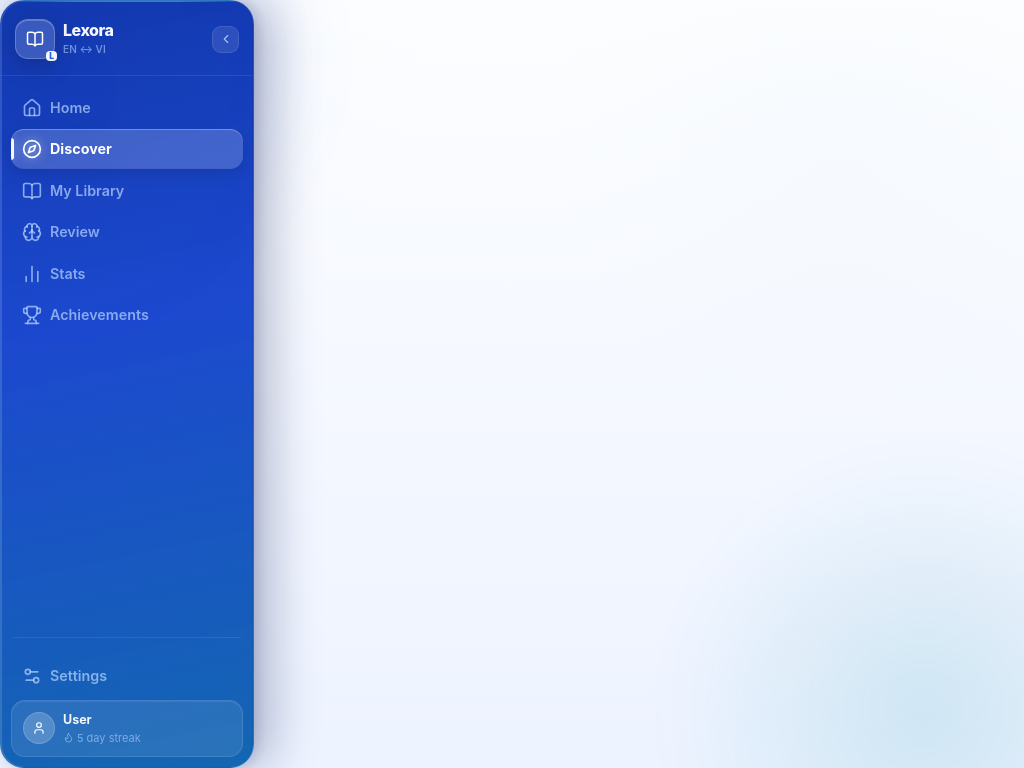
Test: Sidebar — collapse behavior › hides nav labels when collapsed
The width and height of the screenshot is (1024, 768).
Click the button named "Collapse sidebar" at (226, 39), box [212,26,239,52]
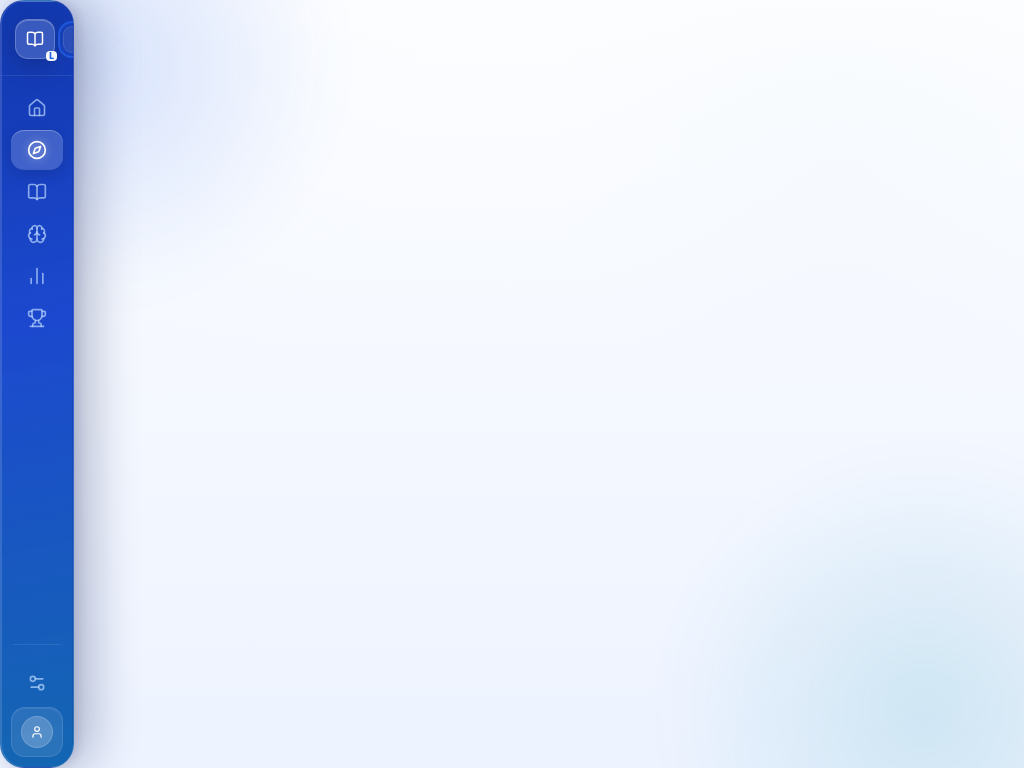
Expected: the text "Discover" is gone
